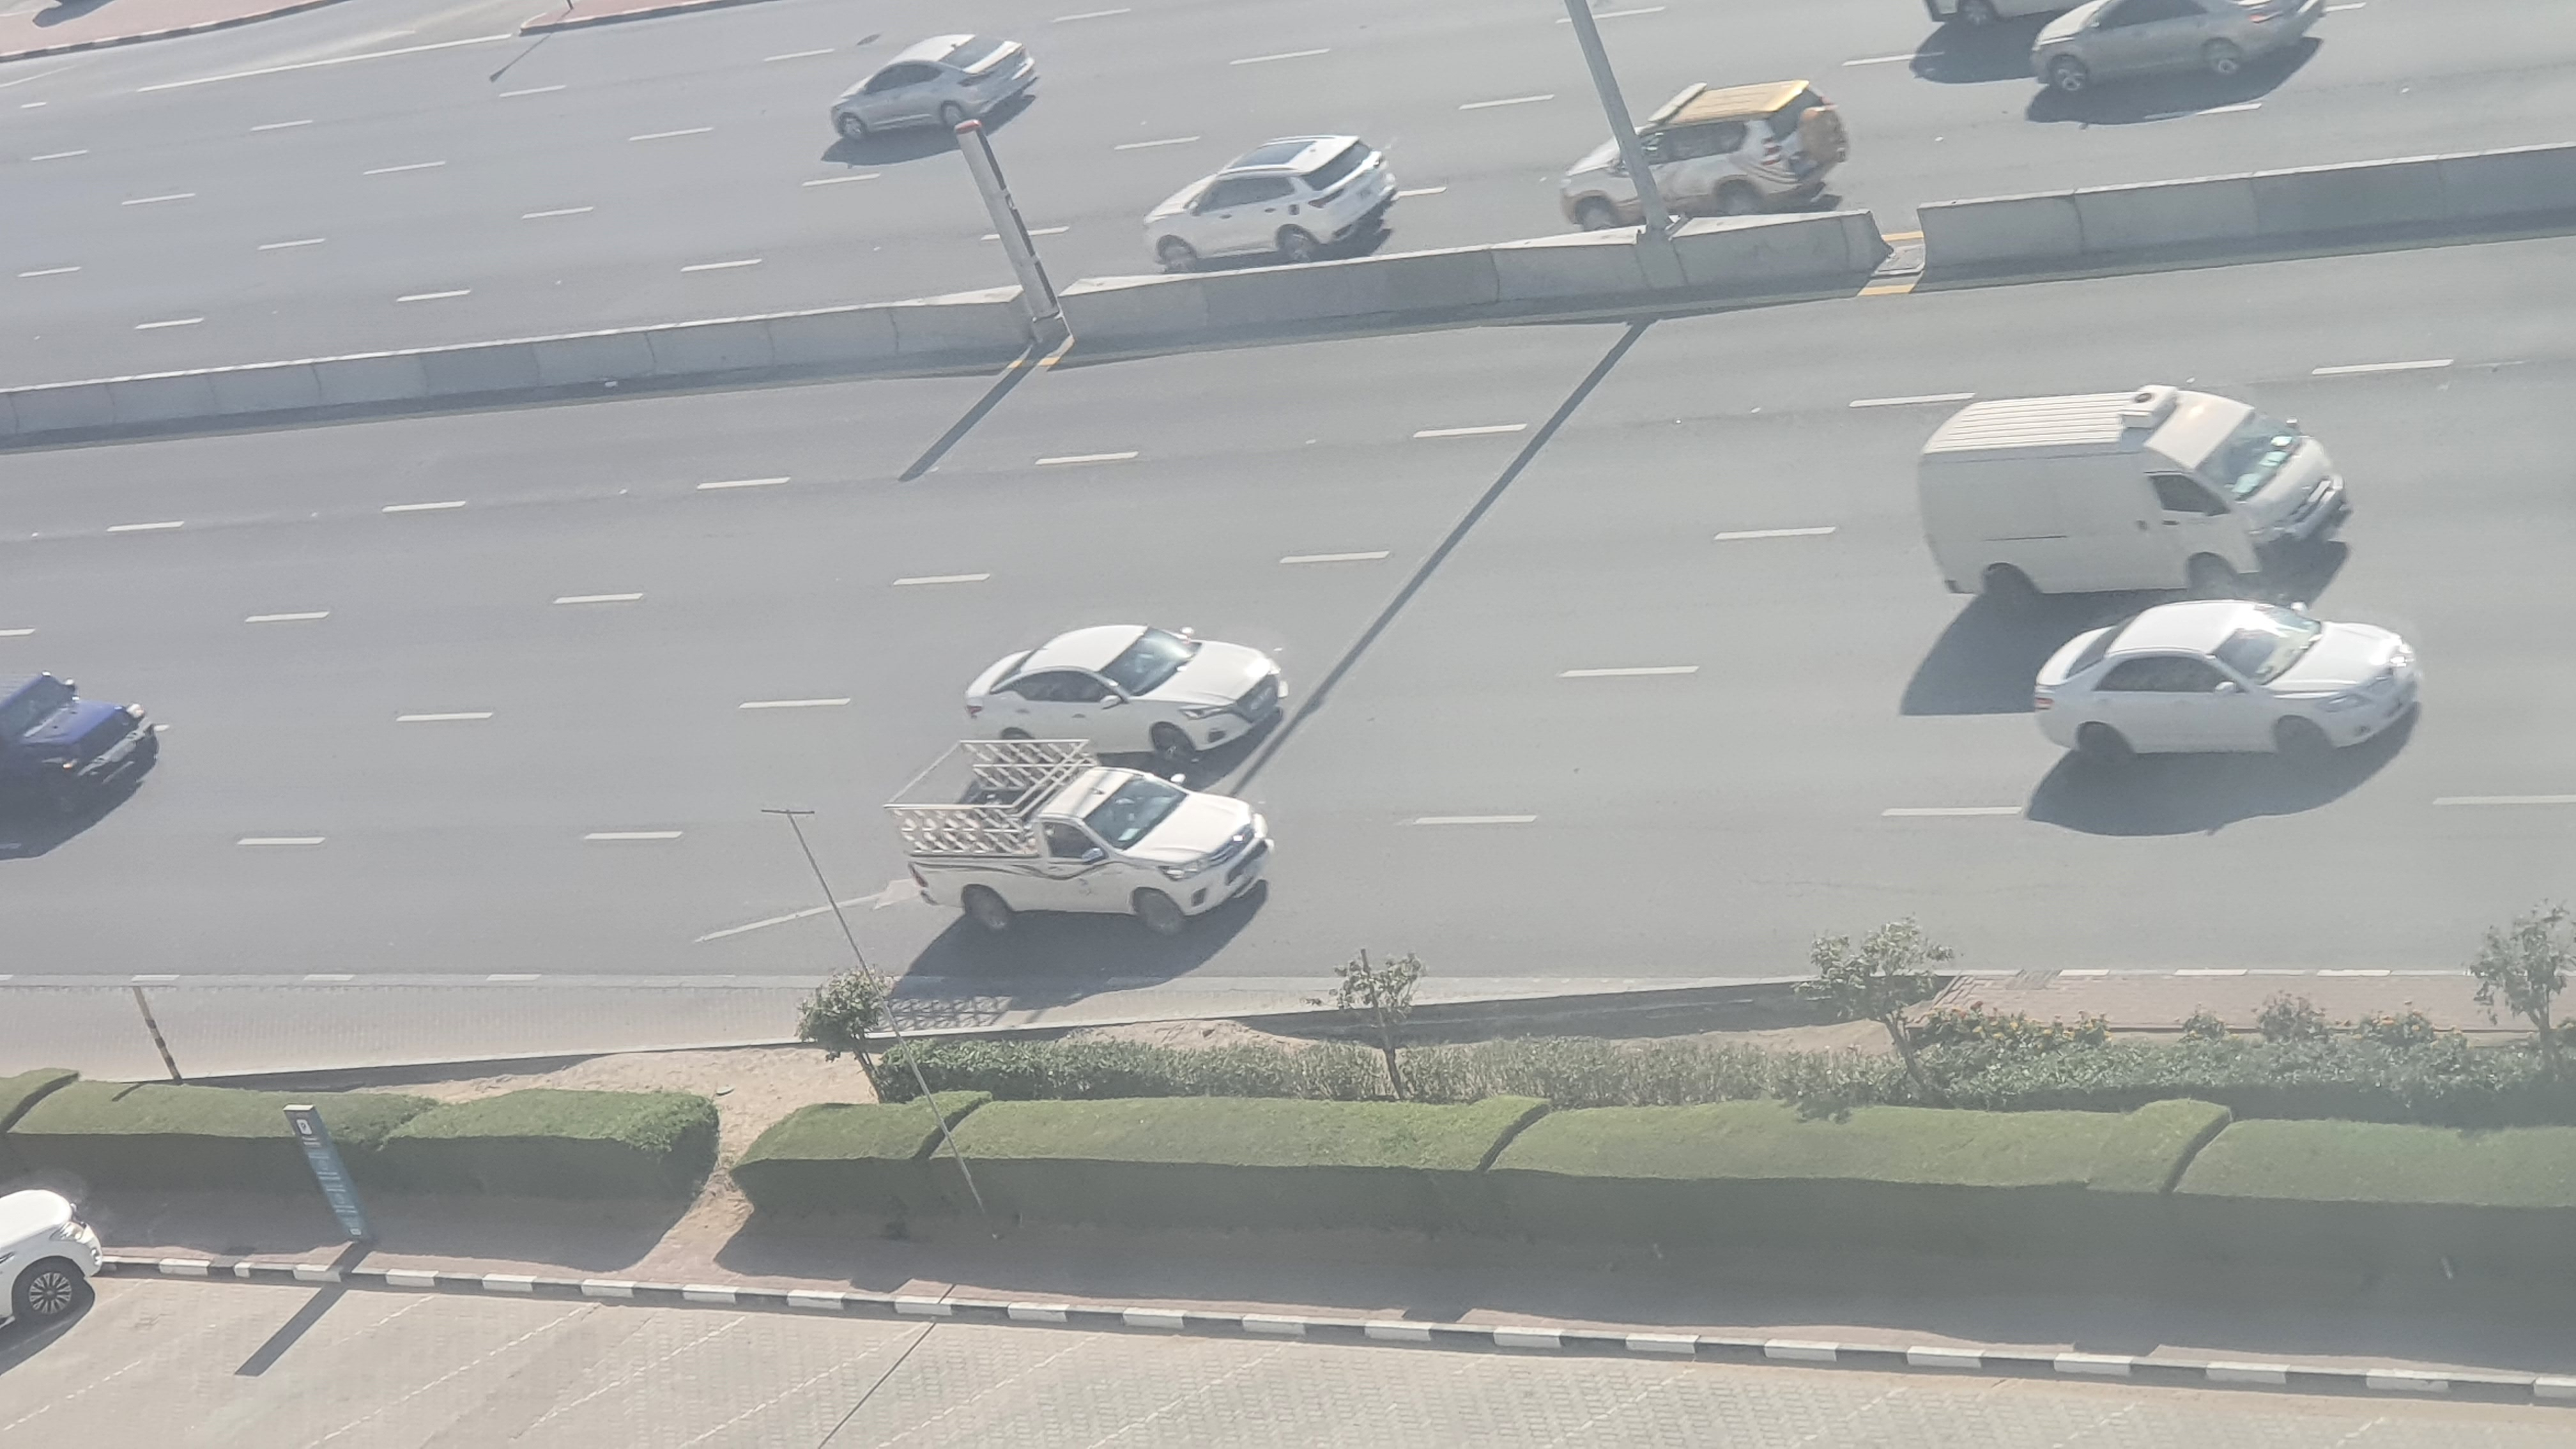NotSunroof: (2026, 598, 2434, 766), (952, 628, 1288, 766)
